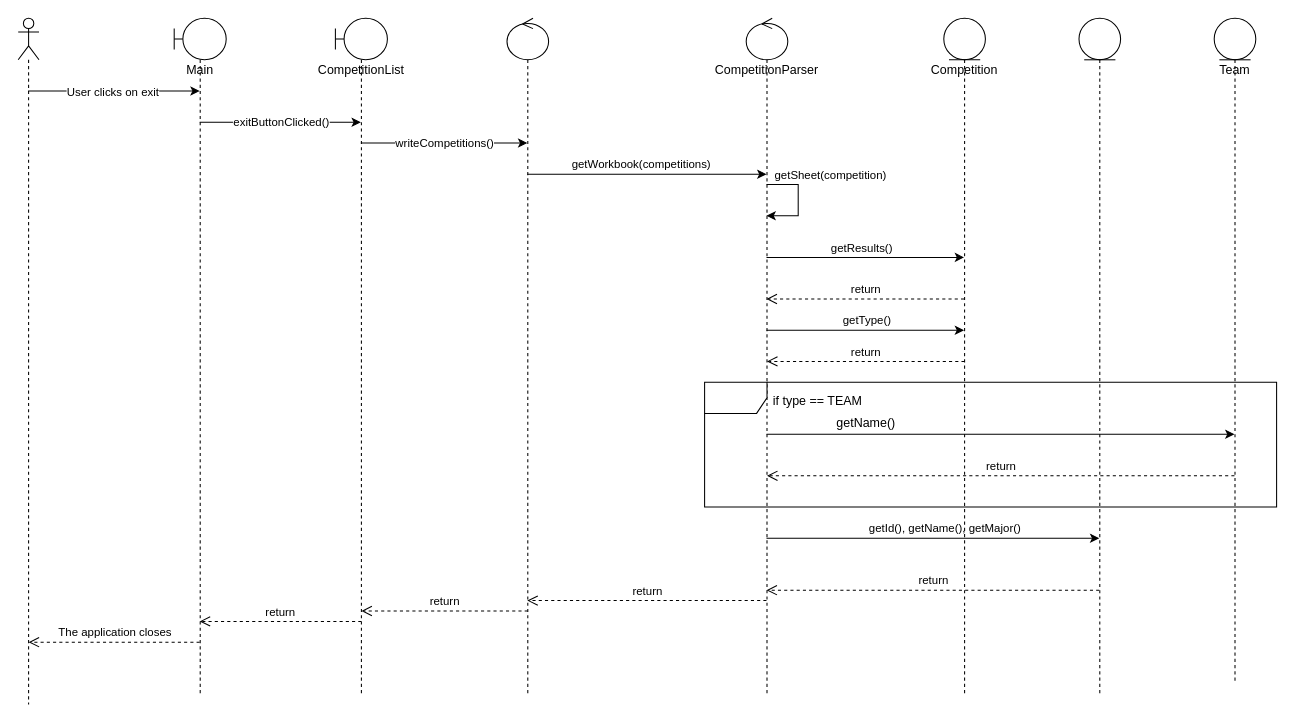
The diagram is 1295 pixels wide and 723 high, and some of its shapes have lost their labels. The shapes that lost their labels are listed below. From the top down, each one's box as (x1, y1, x2, y2) in pixels, then its label:
(506, 17, 549, 694): CompetitionManager
(1078, 17, 1121, 694): Student
(704, 381, 1277, 507): alt
